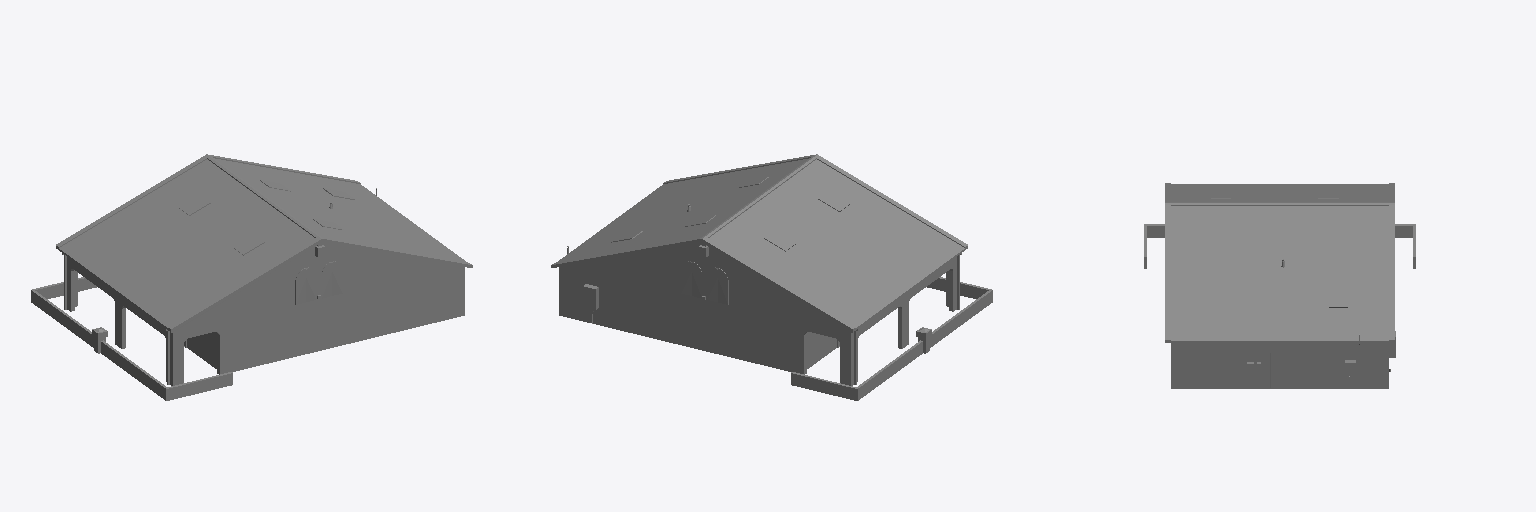
Rendered from house8.obj.
The picture shows the model from 3 angles: view 1: azimuth 30°, elevation 25°; view 2: azimuth 150°, elevation 25°; view 3: azimuth 270°, elevation 25°; orthographic projection.
Visible parts, largest first — view 1: City_building_001.001; view 2: City_building_001.001; view 3: City_building_001.001.
Part boxes in pixels (bbox=[...]): City_building_001.001: bbox=[31, 154, 472, 400]; City_building_001.001: bbox=[551, 154, 992, 400]; City_building_001.001: bbox=[1144, 183, 1415, 388].
Size of the model in its own units: 2.77 by 0.9416 by 2.02.